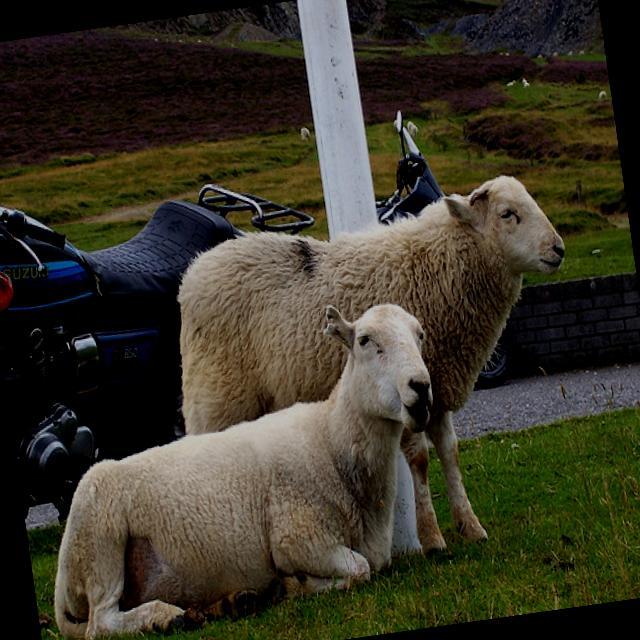Vehicle: (0, 107, 350, 522), (364, 100, 521, 402)
